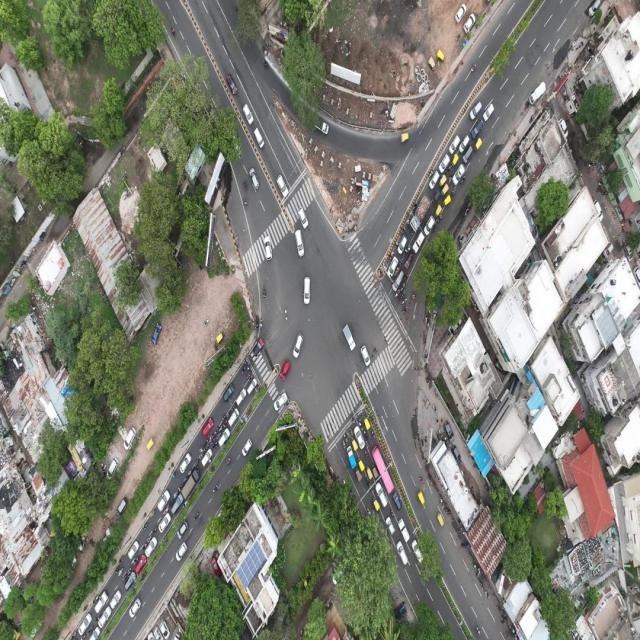3W: (436, 510, 445, 530), (427, 54, 436, 72), (146, 436, 156, 451), (436, 48, 446, 62), (215, 332, 226, 344), (442, 194, 452, 207), (357, 456, 365, 472), (418, 489, 425, 506), (373, 495, 380, 512), (354, 468, 362, 481), (364, 416, 371, 430), (439, 174, 446, 188), (452, 154, 459, 167), (433, 190, 440, 203), (400, 134, 409, 144), (434, 204, 440, 218)
Bus: (370, 443, 395, 494)
Cars: (92, 591, 109, 615), (273, 390, 288, 412), (78, 611, 91, 636), (292, 333, 304, 359), (253, 124, 265, 150), (127, 596, 141, 618), (294, 230, 305, 258), (242, 102, 255, 125), (396, 541, 408, 565), (452, 164, 466, 184), (172, 494, 184, 517), (107, 458, 119, 481), (297, 206, 309, 229), (157, 491, 170, 512), (218, 426, 231, 447), (471, 119, 484, 140), (394, 601, 408, 620), (145, 536, 157, 558), (124, 427, 136, 449), (277, 174, 288, 198), (151, 324, 163, 346), (443, 421, 455, 443), (176, 519, 189, 539), (454, 2, 467, 22), (412, 539, 423, 562), (159, 513, 171, 534), (179, 453, 191, 474), (202, 417, 214, 438), (225, 74, 237, 95), (392, 271, 404, 292), (116, 496, 128, 516), (158, 620, 170, 640), (559, 115, 569, 138), (110, 589, 122, 608), (201, 448, 213, 467), (463, 13, 475, 32), (482, 103, 494, 122), (438, 154, 450, 173), (386, 258, 398, 277), (134, 556, 148, 572), (469, 103, 483, 119), (448, 318, 462, 334), (228, 408, 241, 425), (240, 438, 253, 455), (588, 0, 601, 17), (126, 572, 137, 592), (280, 360, 291, 380), (177, 541, 187, 562), (128, 540, 139, 559), (264, 237, 272, 262), (249, 169, 259, 189), (385, 516, 395, 536), (452, 443, 462, 463), (449, 136, 460, 154), (304, 276, 311, 304), (224, 383, 234, 402), (247, 377, 257, 396), (254, 338, 264, 357), (237, 388, 247, 406), (361, 346, 370, 366), (211, 558, 220, 578), (429, 171, 439, 189), (398, 236, 408, 254), (393, 492, 402, 511), (463, 145, 472, 164), (404, 252, 414, 269), (154, 626, 163, 640)
LCV: (342, 324, 356, 352), (397, 516, 411, 544), (346, 444, 357, 470), (413, 230, 424, 254)
M2W: (141, 522, 150, 532), (149, 508, 158, 518), (475, 625, 482, 637), (224, 457, 232, 466), (484, 589, 490, 601), (262, 286, 267, 300), (253, 323, 260, 332), (153, 523, 158, 535), (213, 340, 218, 352), (242, 198, 248, 208), (262, 59, 268, 69), (419, 476, 425, 486), (366, 475, 370, 490), (402, 274, 409, 282), (409, 292, 416, 300), (118, 566, 123, 577), (371, 429, 376, 440), (71, 631, 77, 640), (202, 438, 208, 447), (193, 512, 199, 521), (204, 318, 210, 327), (356, 412, 362, 421), (260, 317, 264, 330), (464, 207, 469, 217), (193, 459, 200, 466), (171, 470, 177, 478), (212, 485, 218, 493), (244, 356, 250, 364), (412, 200, 418, 208), (402, 306, 408, 314), (448, 175, 453, 184), (451, 187, 456, 196), (433, 404, 438, 413), (244, 179, 248, 190), (172, 25, 176, 36), (367, 507, 371, 518), (440, 498, 444, 509), (127, 566, 133, 573), (401, 298, 407, 305), (242, 365, 246, 375), (352, 415, 356, 425), (472, 63, 476, 73), (389, 251, 394, 259), (460, 234, 464, 244), (343, 438, 346, 451), (119, 555, 125, 561), (365, 451, 369, 460), (359, 422, 363, 431), (400, 291, 406, 297), (423, 334, 426, 346), (215, 426, 219, 434), (349, 427, 353, 435), (406, 219, 410, 227), (401, 228, 406, 234), (364, 431, 368, 438), (396, 242, 400, 249), (433, 224, 437, 231), (397, 296, 401, 303), (365, 438, 368, 447), (399, 256, 402, 265), (408, 246, 410, 252)
MAV: (409, 193, 432, 232)
Truck: (182, 469, 201, 498), (530, 81, 546, 104), (315, 115, 329, 134)
